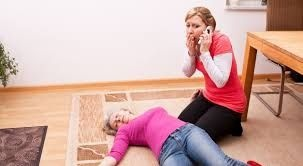falling: (78, 103, 289, 162)
